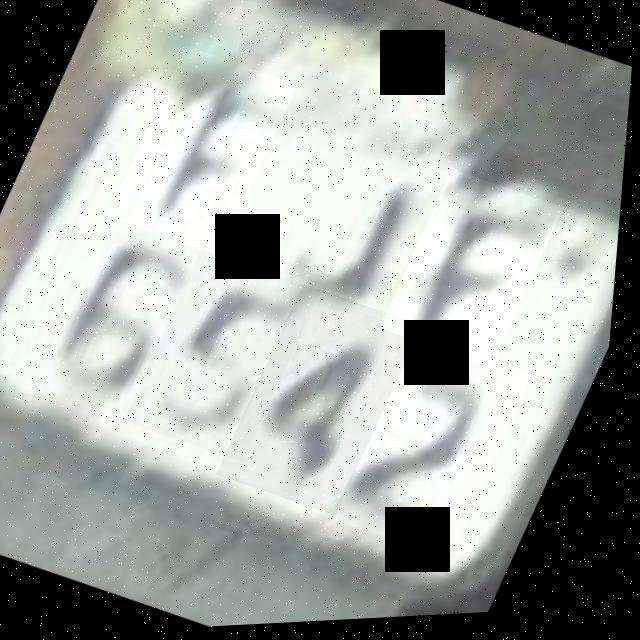2: (315, 323, 545, 570)
4: (221, 283, 431, 525)
5: (127, 247, 329, 470)
6: (10, 182, 243, 455)
F: (382, 169, 571, 377)
H: (108, 43, 302, 263)
J: (251, 129, 456, 338)
